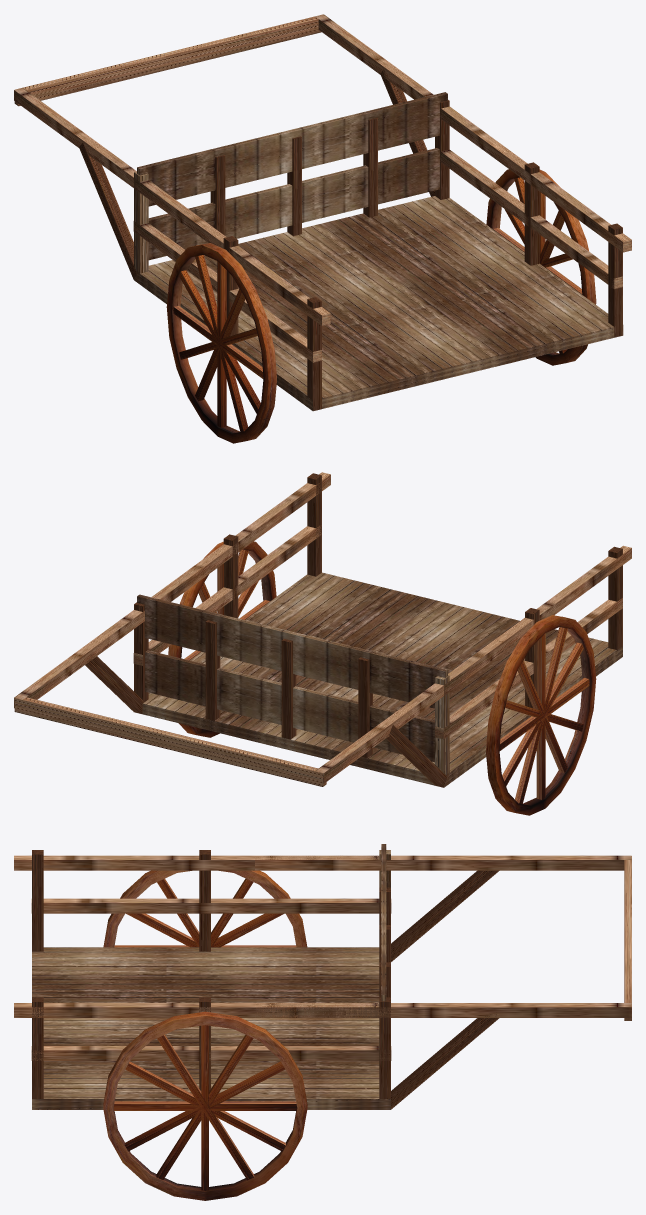
File: rearCar.fbx
The picture shows the model from 3 angles, top to bottom: view 1: azimuth 30°, elevation 25°; view 2: azimuth 150°, elevation 25°; view 3: azimuth 270°, elevation 25°; orthographic projection.
Parts seen in each view (by area): view 1: bottom, pCube2, pCube1, wheel, pCube9, pillar14, pillar11, pillar13, pillar15, pillar12, pillar16, wheel1 (+15 smaller); view 2: bottom, pCube2, pCube1, wheel, pCube9, pillar14, pillar15, pillar16, pillar13, pillar11, pillar12, wheel1 (+17 smaller); view 3: bottom, wheel1, pillar16, pillar12, pillar13, pillar15, pillar11, pillar14, pCube8 (×2), wheel, pCube7 (×2), pCube6 (×2) (+12 smaller).
Part boxes in pixels (left/top/right/bottom): bottom: left=134, top=196, right=623, bottom=410; pCube2: left=137, top=92, right=447, bottom=206; pCube1: left=148, top=148, right=439, bottom=260; wheel: left=166, top=243, right=276, bottom=443; pCube9: left=14, top=14, right=321, bottom=106; pillar14: left=134, top=178, right=330, bottom=325; pillar11: left=440, top=149, right=622, bottom=288; pillar13: left=440, top=108, right=631, bottom=252; pillar15: left=315, top=14, right=511, bottom=153; pillar12: left=133, top=221, right=321, bottom=362; pillar16: left=14, top=88, right=200, bottom=218; wheel1: left=486, top=169, right=596, bottom=365; bottom: left=142, top=572, right=622, bottom=787; pCube2: left=137, top=594, right=447, bottom=708; pCube1: left=145, top=650, right=434, bottom=762; wheel: left=486, top=615, right=596, bottom=815; pCube9: left=14, top=697, right=326, bottom=786; pillar14: left=444, top=545, right=631, bottom=695; pillar15: left=14, top=562, right=210, bottom=708; pillar16: left=315, top=634, right=510, bottom=783; pillar13: left=151, top=472, right=330, bottom=599; pillar11: left=133, top=525, right=321, bottom=665; pillar12: left=435, top=598, right=622, bottom=739; wheel1: left=168, top=541, right=276, bottom=737; bottom: left=32, top=947, right=390, bottom=1109; wheel1: left=103, top=1011, right=307, bottom=1200; pillar16: left=255, top=855, right=631, bottom=870; pillar12: left=31, top=898, right=391, bottom=913; pillar13: left=14, top=1003, right=390, bottom=1017; pillar15: left=255, top=1003, right=631, bottom=1017; pillar11: left=31, top=1046, right=391, bottom=1060; pillar14: left=14, top=855, right=379, bottom=870; pCube8 (×2): left=124, top=913, right=294, bottom=1151; wheel: left=103, top=870, right=307, bottom=947; pCube7 (×2): left=116, top=913, right=285, bottom=1151; pCube6 (×2): left=152, top=870, right=254, bottom=1180.
Bounding box in the file's own units: 12.24 × 7.17 × 19.95.
Materials: 5 (4 with a texture image).
